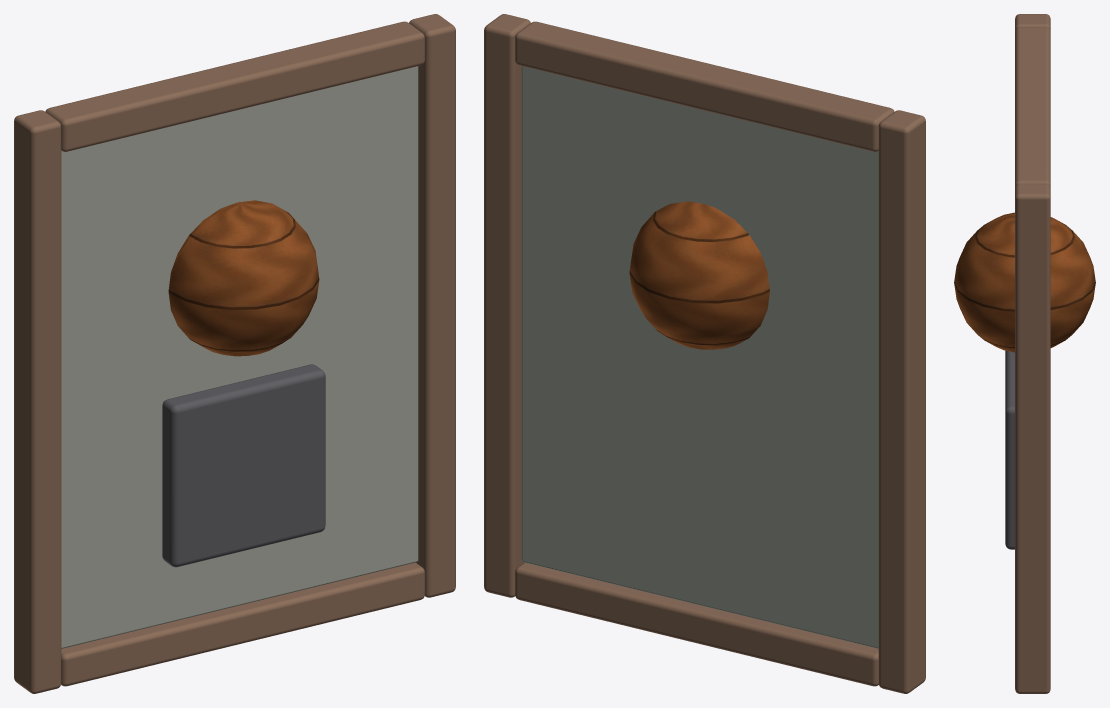
Rendered from paranormal-investigation-house-portrait-frame-293bd6db__26740.glb.
3 views of the same model, side by side, from view 1: azimuth 30°, elevation 25°; view 2: azimuth 150°, elevation 25°; view 3: azimuth 270°, elevation 25° (orthographic). The views are drawn at different scales.
Parts seen in each view (by area): view 1: portrait-frame; view 2: portrait-frame; view 3: portrait-frame.
Boxes of the visible parts, x1,y1,x2,y2 form: portrait-frame: (14, 14, 455, 693); portrait-frame: (484, 14, 925, 693); portrait-frame: (954, 14, 1095, 693).
Size of the model in its own units: 0.55 by 0.7 by 0.18.
4 materials, 1 textured.
